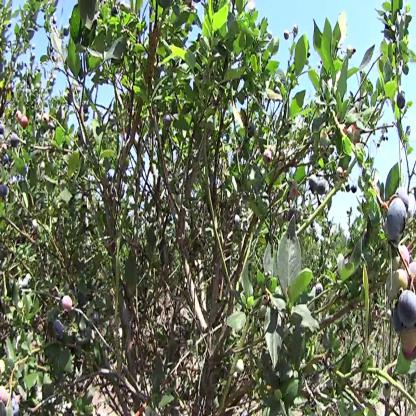intermediate: (402, 332, 416, 360), (401, 245, 410, 271), (17, 111, 29, 129), (63, 296, 74, 314), (409, 262, 416, 288), (1, 387, 9, 406)
mature: (398, 290, 416, 331), (388, 198, 407, 235), (309, 173, 327, 195), (53, 319, 64, 339), (398, 94, 406, 112), (11, 136, 20, 149)
young: (389, 273, 410, 296), (236, 359, 246, 373), (337, 169, 344, 181)
